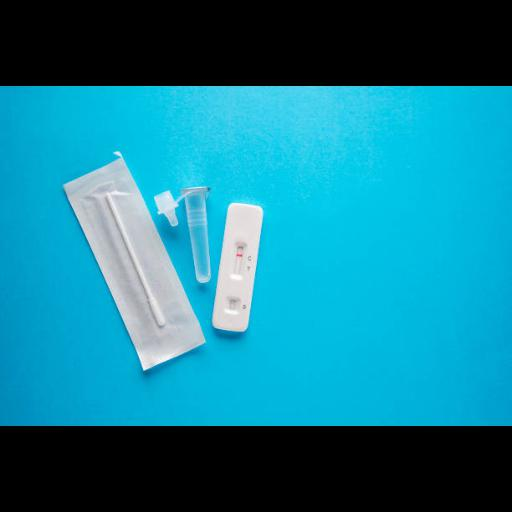Neg: (210, 202, 266, 333)
